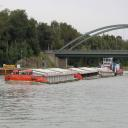tugboat: (99, 57, 126, 79)
